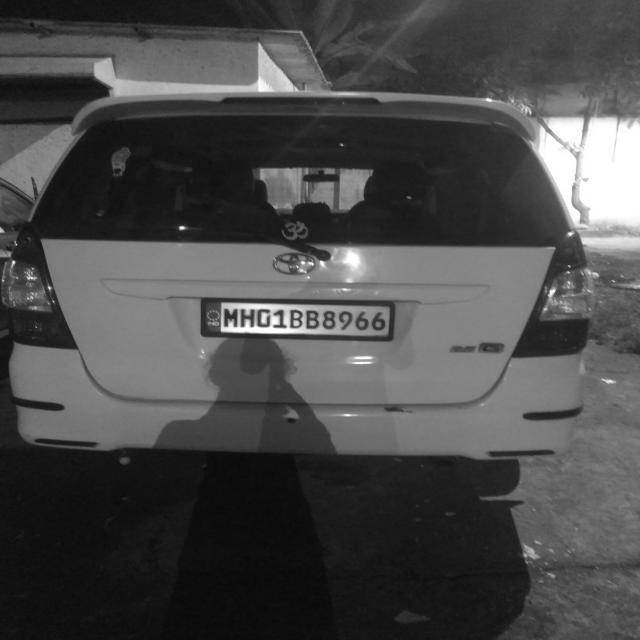car: (7, 96, 600, 507)
license-plate: (202, 298, 400, 342)
